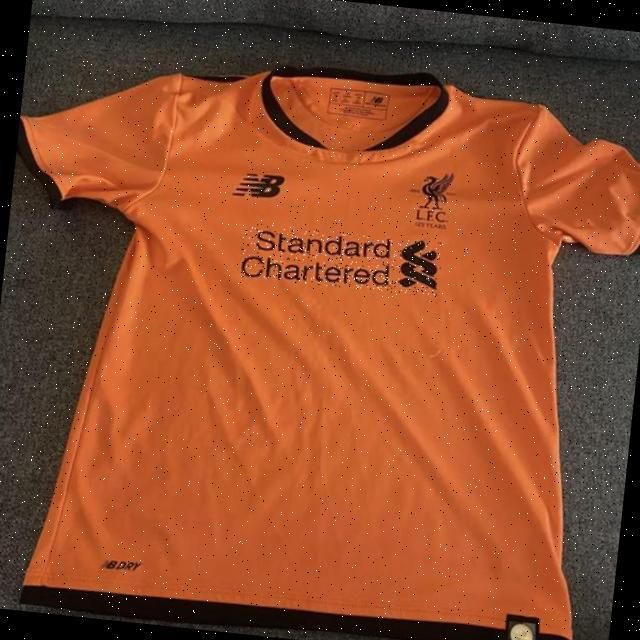Standard Chartered: (239, 222, 443, 298)
